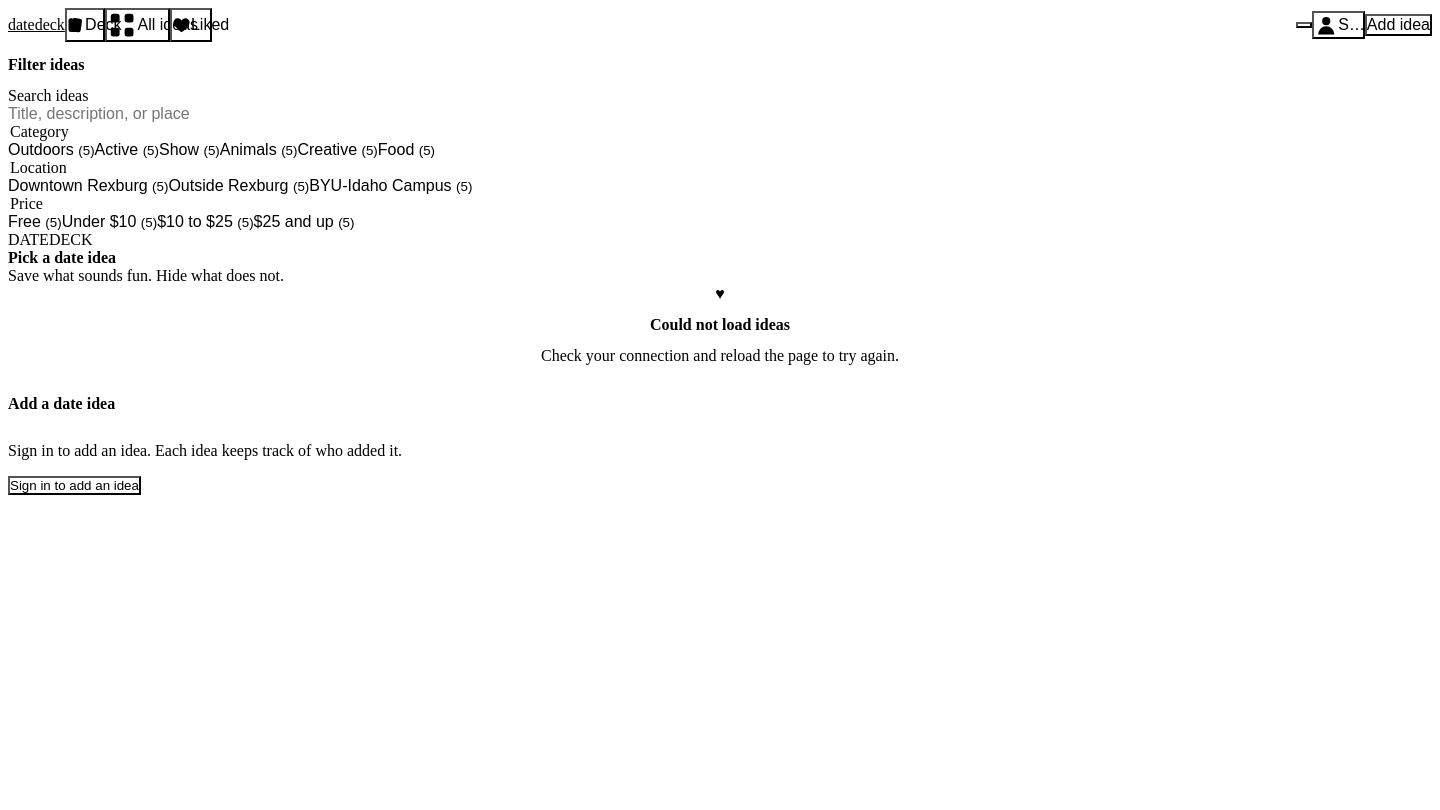
Home deck › shows an error message when the ideas cannot load
expect the heading "Could not load ideas" is shown: met, box [650,316,790,333]
Click the button "All ideas" at (138, 25), box [105,8,170,42]
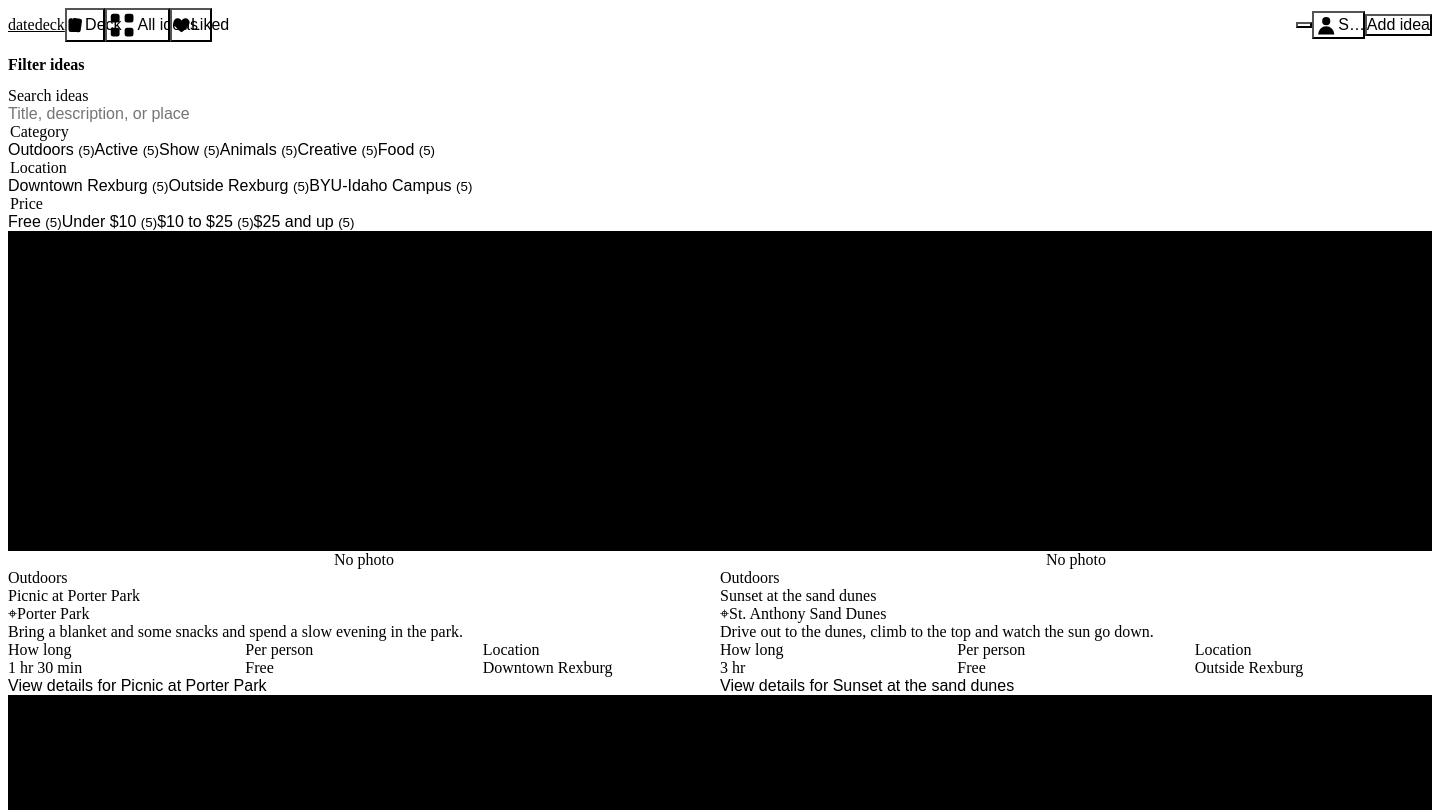
expect the heading "Picnic at Porter Park" is shown: met, box [8,587,140,604]
